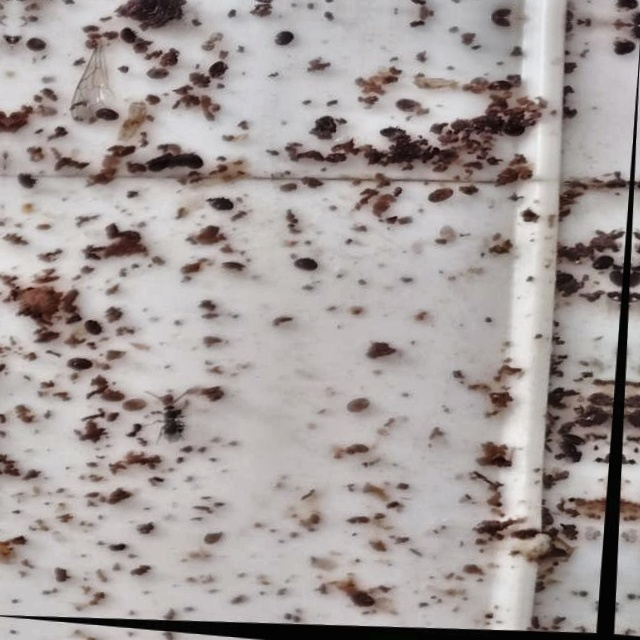varroa: (347, 590, 381, 614), (204, 195, 241, 216), (376, 125, 407, 145), (291, 257, 321, 276), (66, 355, 97, 373), (589, 257, 618, 276), (180, 152, 205, 173), (394, 100, 423, 118), (500, 126, 529, 144), (118, 25, 140, 48), (486, 81, 513, 99), (82, 318, 104, 340), (95, 107, 121, 125), (207, 61, 228, 83), (487, 17, 514, 33), (605, 273, 625, 294), (18, 172, 40, 191), (272, 32, 296, 49), (612, 44, 636, 61), (26, 37, 49, 54)
